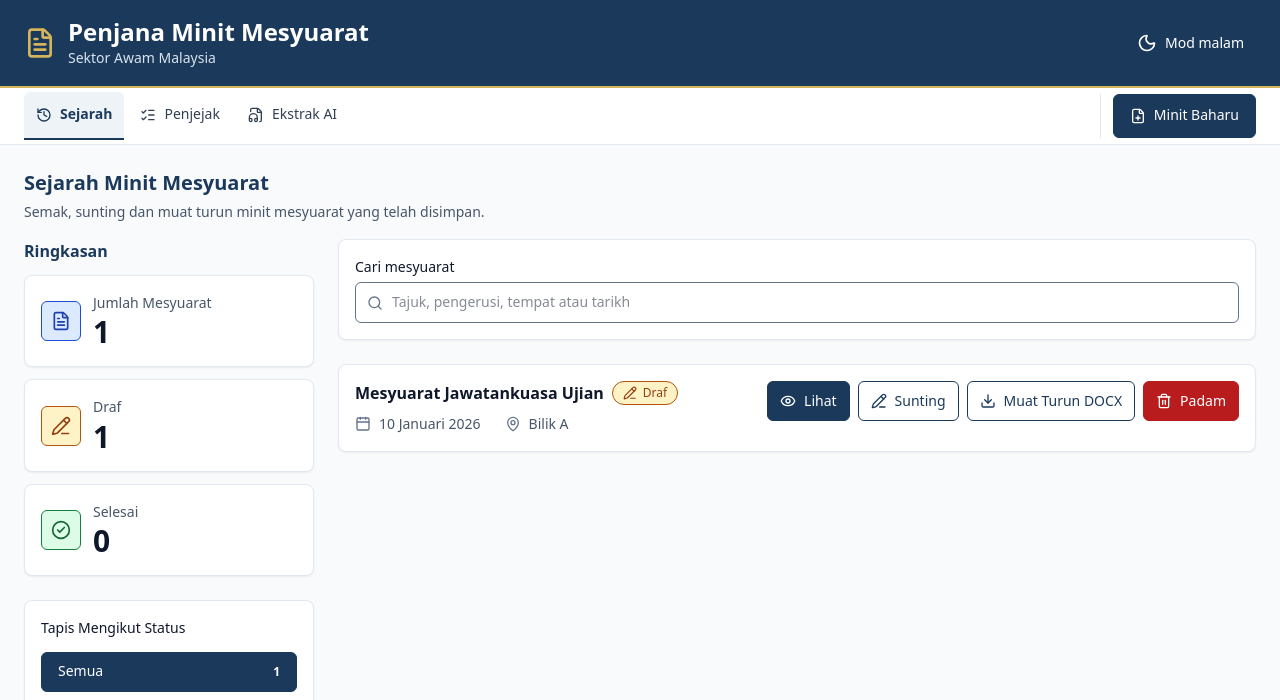
Test case: App delete flow › Padam sends DELETE /api/meetings/{id} and shows a success toast
Click the button "Padam".
click(1191, 401)  # box [1143, 381, 1239, 421]
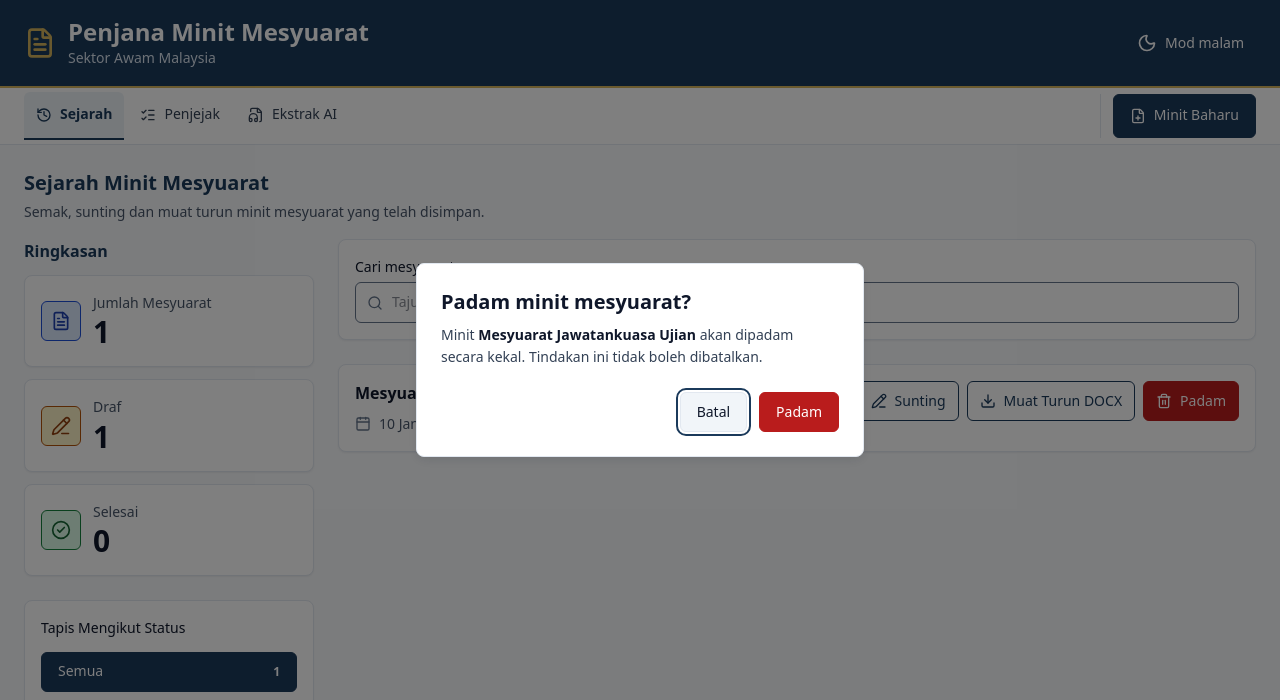
Click the button "Padam".
click(799, 412)  # box [759, 392, 839, 432]
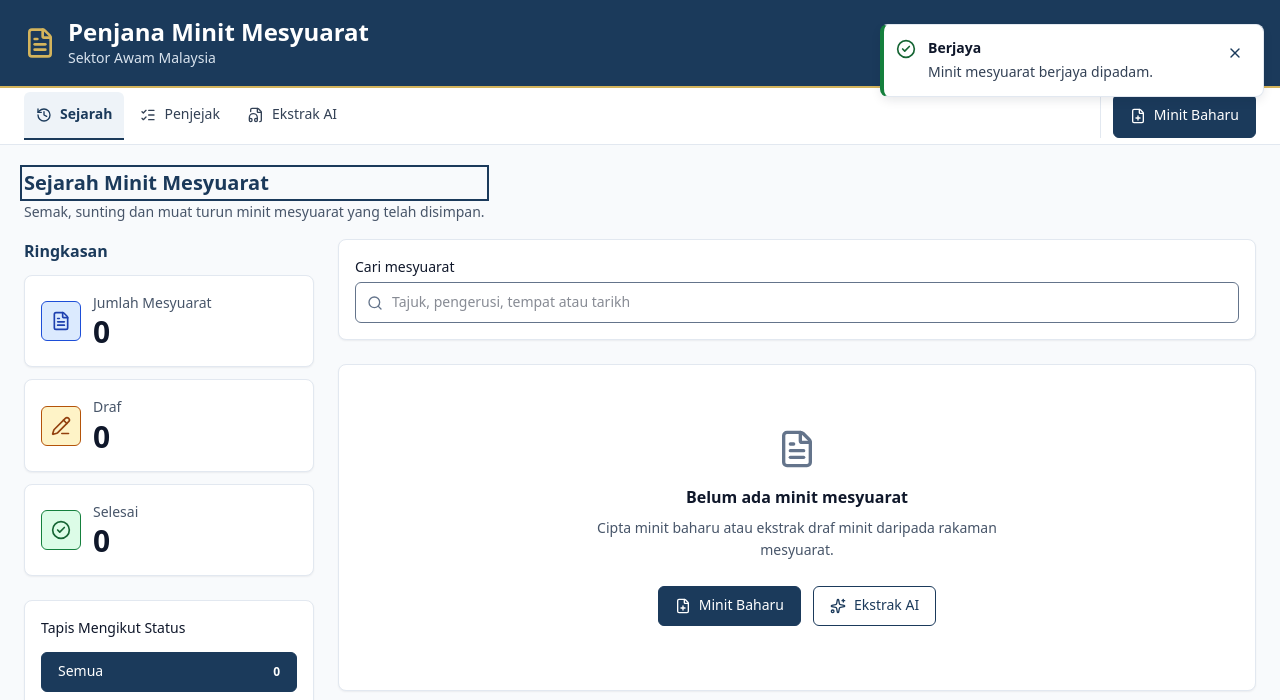
Check: the text "Minit mesyuarat berjaya dipadam." is shown, box [928, 62, 1153, 81]
Check: the dialog is gone
Check: the heading "Mesyuarat Jawatankuasa Ujian" is gone
